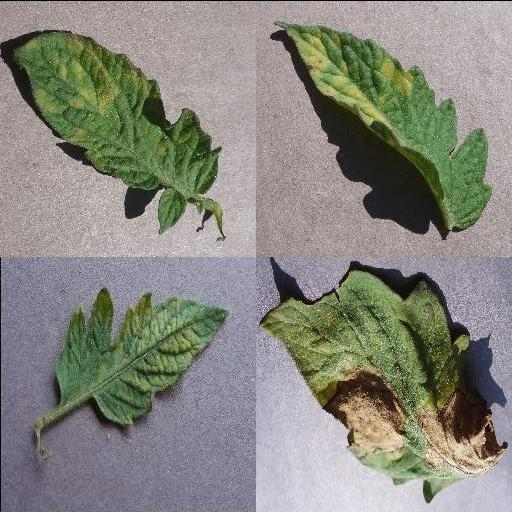Late Blight: (257, 268, 509, 502)
Leaf Mold: (275, 18, 493, 232), (13, 30, 221, 234)
Mosaic Virus: (54, 285, 230, 425)
